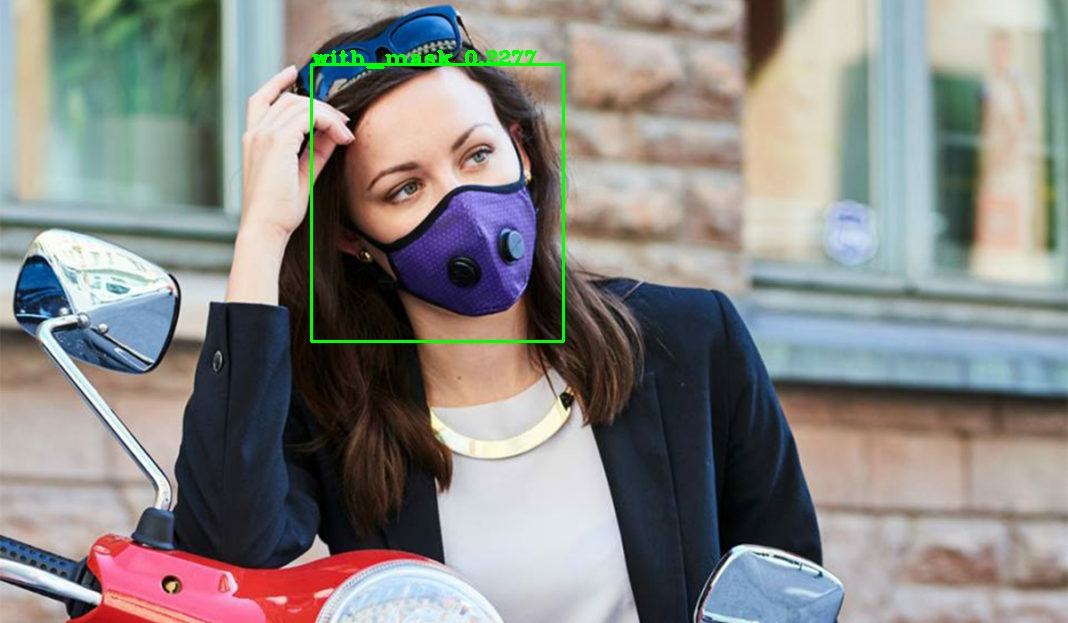with_mask: (310, 81, 563, 338)
